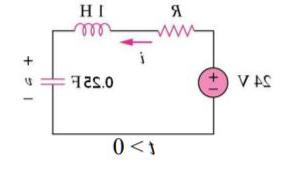Capacitor: (37, 69, 70, 94)
